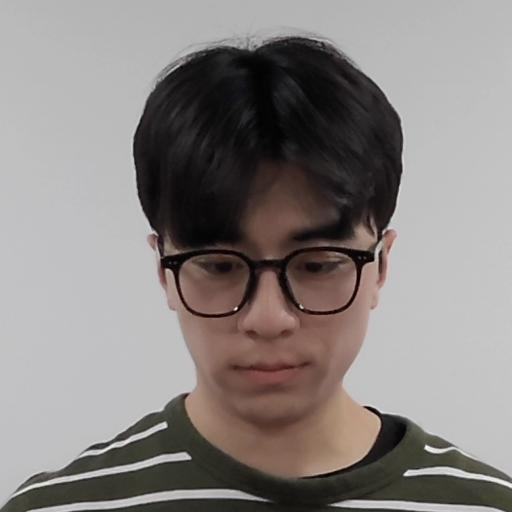no_glasses: (132, 42, 408, 414)
